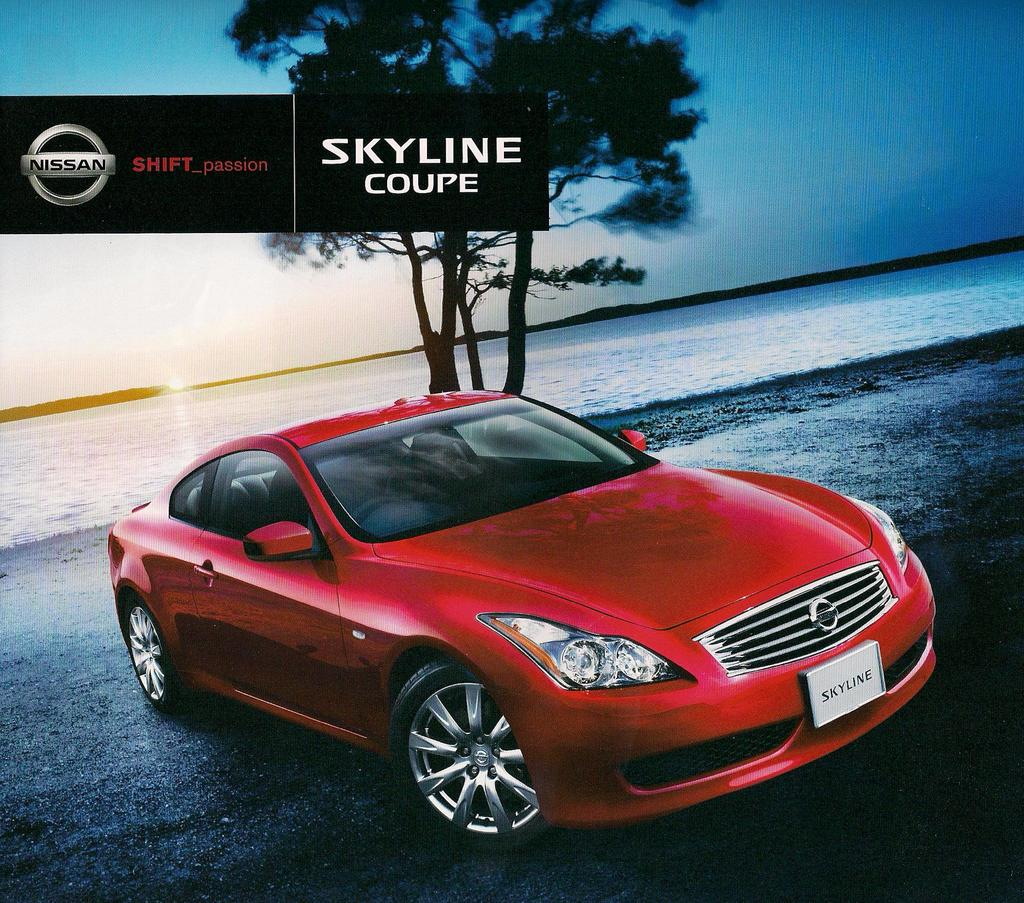Tree: (222, 0, 716, 393)
